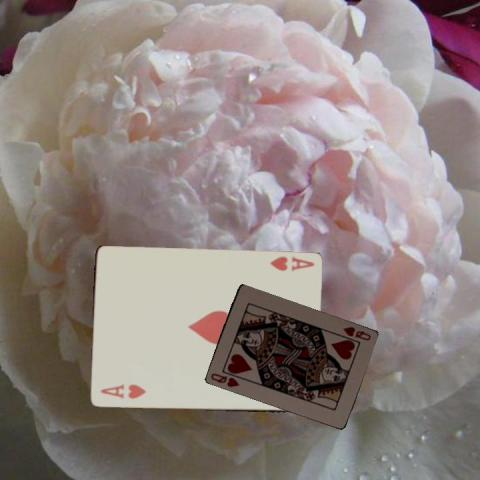Ah: (267, 253, 315, 273), (97, 382, 147, 401)
Qh: (207, 370, 241, 389), (339, 323, 372, 342)
